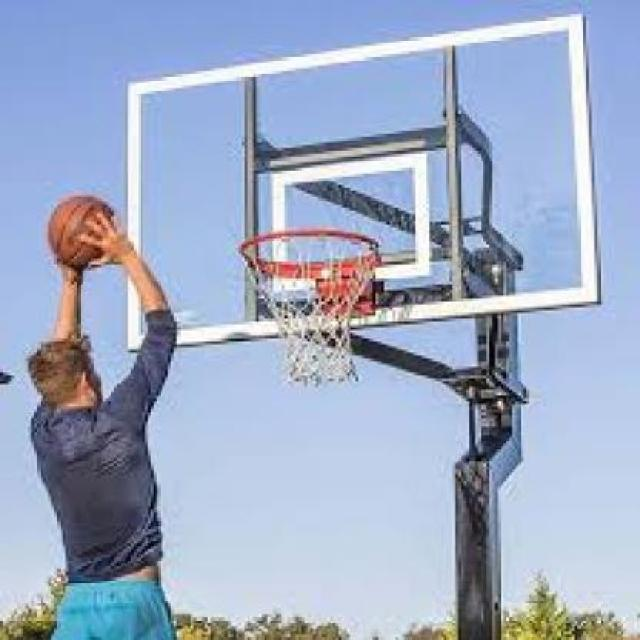basketball: (46, 194, 118, 270)
rim: (238, 226, 380, 382)
